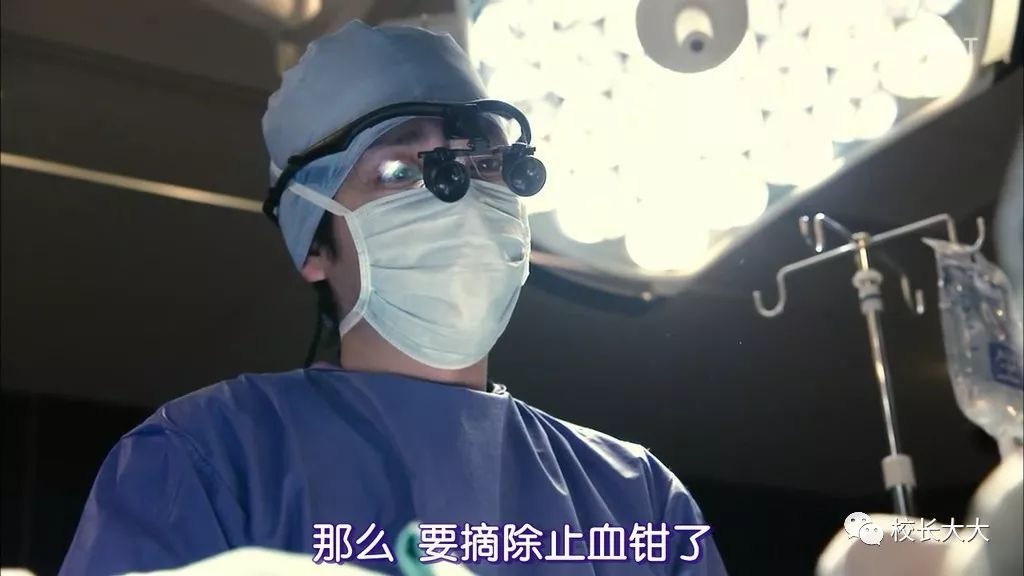mask: (337, 178, 532, 371)
